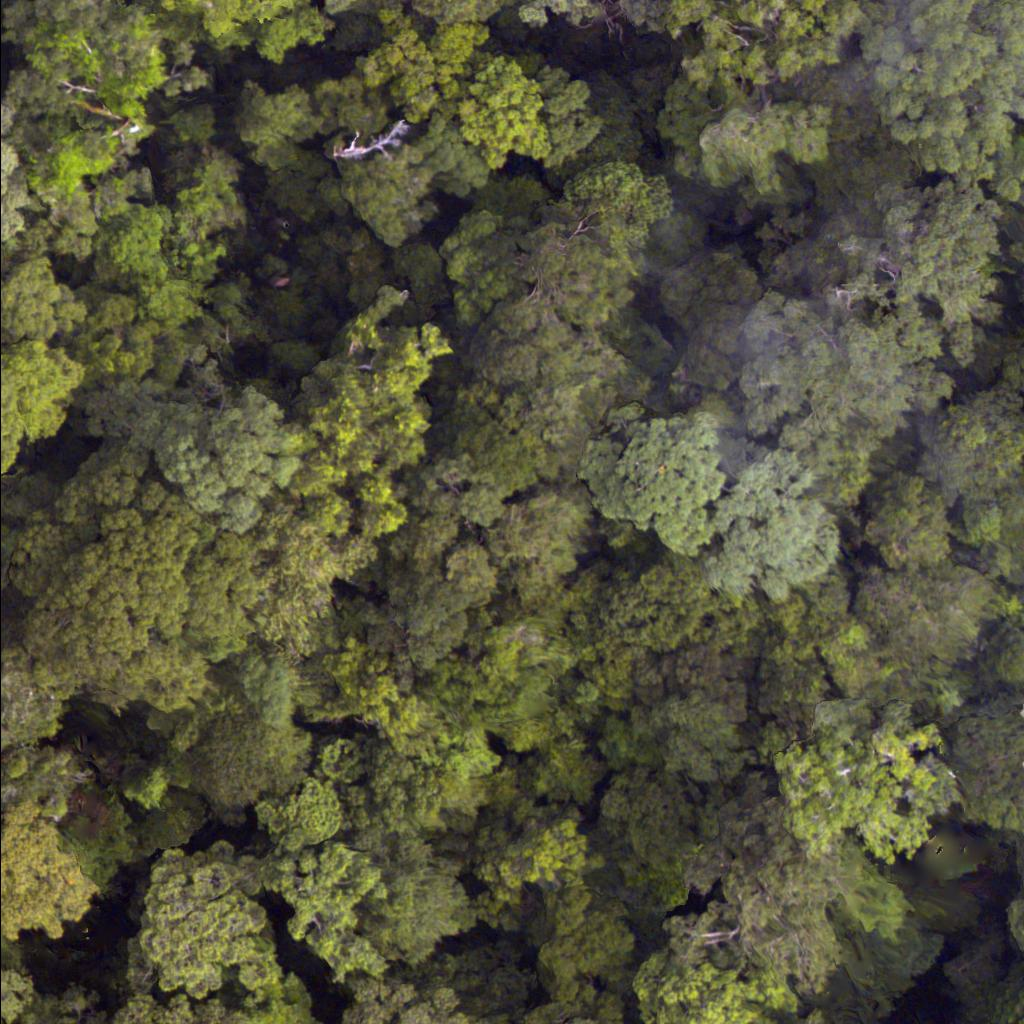crown: (127, 839, 285, 1001), (0, 796, 107, 947), (14, 987, 113, 1023), (0, 975, 31, 1023)
